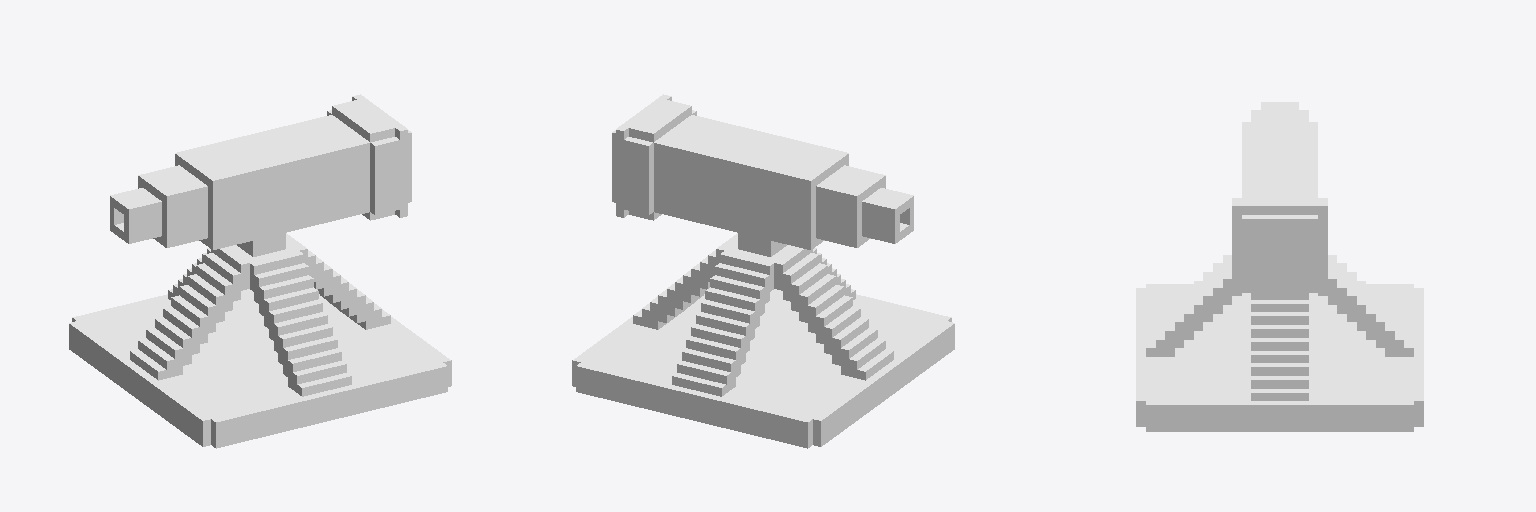
Rendered from pulsar.obj.
3 renders of one model, left to right at view 1: azimuth 30°, elevation 25°; view 2: azimuth 150°, elevation 25°; view 3: azimuth 270°, elevation 25°, orthographic.
Visible parts, largest first — view 1: object 1; view 2: object 1; view 3: object 1.
Boxes of the visible parts, x1,y1,x2,y2 form: object 1: [69, 94, 451, 448]; object 1: [572, 94, 954, 448]; object 1: [1136, 102, 1423, 431].
Size of the model in its own units: 3.3 by 2.6 by 3.